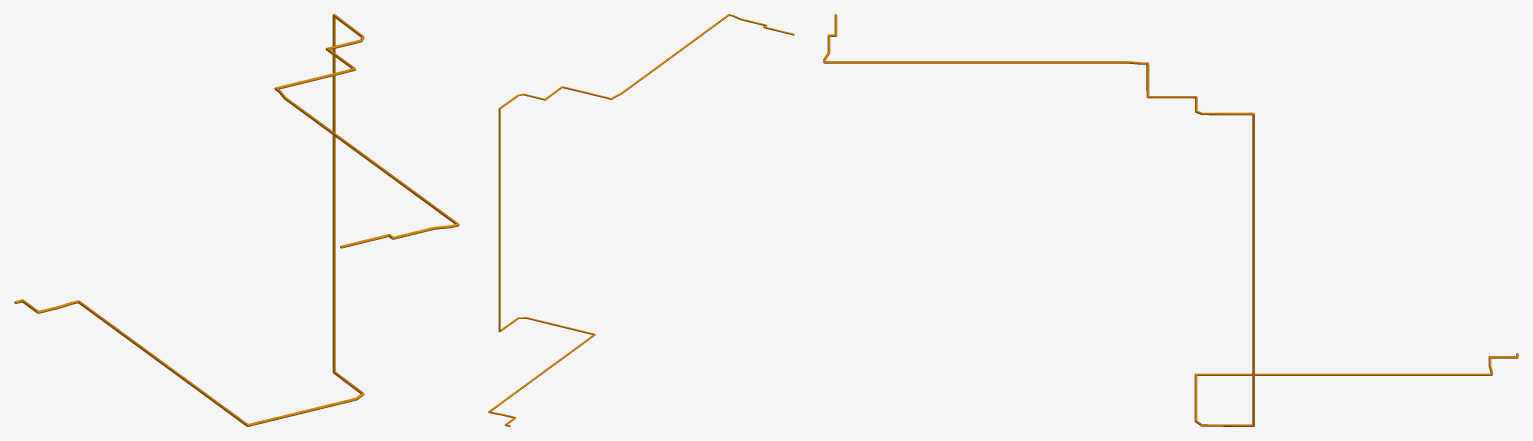
3 views of the same model, side by side, from view 1: azimuth 30°, elevation 25°; view 2: azimuth 150°, elevation 25°; view 3: azimuth 270°, elevation 25° (orthographic). The views are drawn at different scales.
Size of the model in its own units: 1720 by 2520 by 5058.
